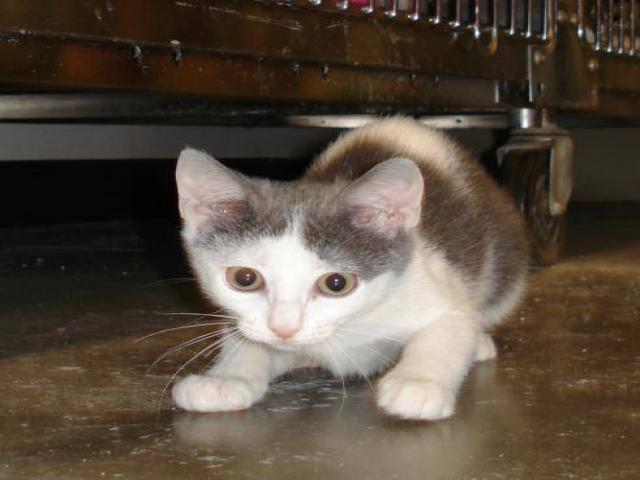cat: (150, 113, 549, 429)
